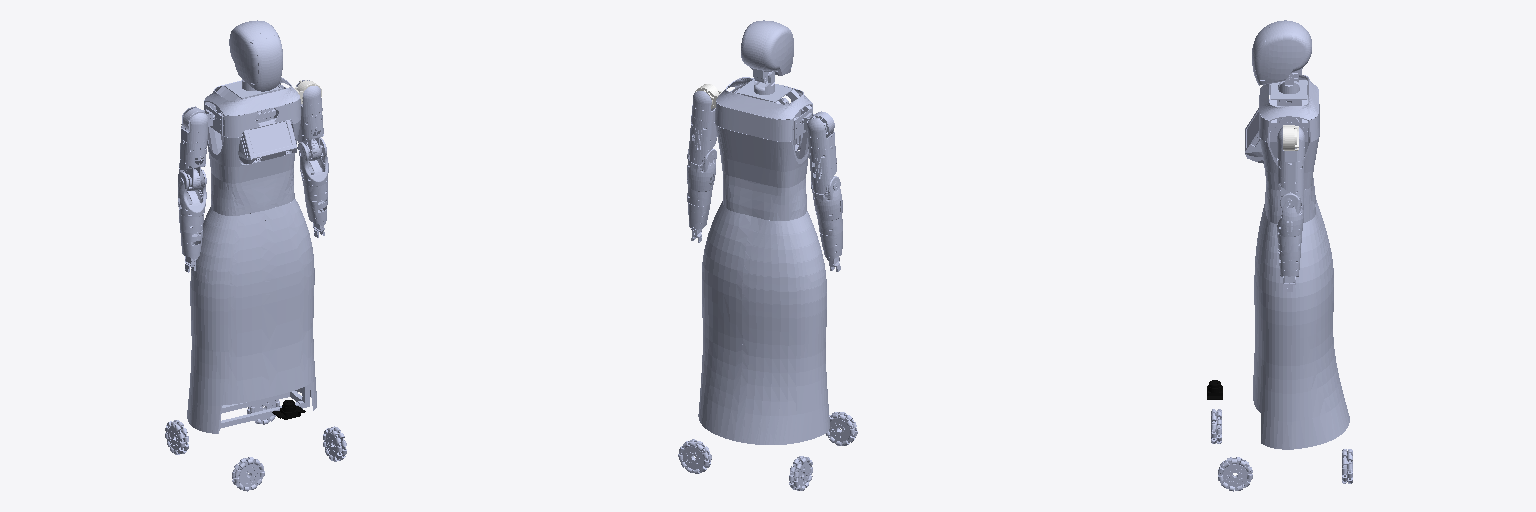
--- Render facts (derived) ---
3 views of the same robot in one strip: view 1: azimuth 30°, elevation 25°; view 2: azimuth 150°, elevation 25°; view 3: azimuth 270°, elevation 25° (orthographic).
Robot: eva — 23 links, 22 joints (14 revolute, 4 continuous, 4 fixed); root link base_footprint; default pose: every joint at zero.
Links seen in each view (by area): view 1: base_link, head, elbow_right, elbow_left, biceptoelbow_right, omniwheelone, biceptoelbow_left, shouldertobicep_right, omniwheeltwo, omniwheelfour, shouldertobicep_left; view 2: base_link, head, elbow_right, elbow_left, biceptoelbow_right, biceptoelbow_left, omniwheelthree, omniwheelone, omniwheelfour, shouldertobicep_right, shouldertobicep_left; view 3: base_link, head, elbow_left, omniwheeltwo, biceptoelbow_left, shouldertobicep_left.
Boxes of the visible links, x1,y1,x2,y2 form: base_link: (187,77,316,433); head: (229,20,282,91); elbow_right: (178,169,206,232); elbow_left: (298,137,328,200); biceptoelbow_right: (179,139,206,190); omniwheelone: (232,457,264,491); biceptoelbow_left: (298,113,323,160); shouldertobicep_right: (181,107,207,155); omniwheeltwo: (323,426,346,461); omniwheelfour: (165,420,188,454); shouldertobicep_left: (296,80,322,125); base_link: (698,77,829,444); head: (741,20,793,82); elbow_right: (811,176,842,235); elbow_left: (687,149,716,206); biceptoelbow_right: (808,144,836,194); biceptoelbow_left: (689,115,716,165); omniwheelthree: (678,439,711,473); omniwheelone: (826,412,857,445); omniwheelfour: (789,456,812,490); shouldertobicep_right: (807,119,834,161); shouldertobicep_left: (692,91,715,133); base_link: (1245,75,1349,449); head: (1252,20,1311,85); elbow_left: (1277,193,1303,252); omniwheeltwo: (1218,457,1252,491); biceptoelbow_left: (1278,159,1303,205); shouldertobicep_left: (1277,127,1304,167).
Size in the robot's own frame: 0.625 by 0.5215 by 1.73 metres.
Meshes: 21 distinct files referenced, 20 mesh visuals loaded (20 binary STL); not drawn: 1 (reference not matched to a file when rendering).

robot.urdf — eva:
<?xml version="1.0" encoding="utf-8"?>
<!-- This URDF was automatically created by SolidWorks to URDF Exporter! Originally created by Stephen Brawner ([email redacted]) 
     Commit Version: 1.6.0-4-g7f85cfe  Build Version: 1.6.7995.38578
     For more information, please see http://wiki.ros.org/sw_urdf_exporter -->
<robot
  name="eva">
  <link name="base_footprint">
    <inertial>
      <origin xyz="0 0 0" rpy="0 0 0" />
      <mass value="0.001" />
      <inertia ixx="0.0001" ixy="0" ixz="0" iyy="0.0001" iyz="0" izz="0.0001" />
    </inertial>
  </link>
  <joint name="base_footprint_joint" type="fixed">
    <origin xyz="0 0 0" rpy="0 0 0" />
    <parent link="base_footprint" />
    <child link="odom" />
  </joint>
  <link
    name="base_link">
    <inertial>
      <origin
        xyz="-0.023935 0.82614 -0.32916"
        rpy="0 0 0" />
      <mass
        value="8.7231" />
      <inertia
        ixx="0.43786"
        ixy="0.0060048"
        ixz="0.0014775"
        iyy="0.1169"
        iyz="-0.01918"
        izz="0.44107" />
    </inertial>
    <visual>
      <origin
        xyz="0 0 0"
        rpy="0 0 0" />
      <geometry>
        <mesh
          filename="package://eva/meshes/base_link.STL" />
      </geometry>
      <material
        name="">
        <color
          rgba="0.79216 0.81961 0.93333 1" />
      </material>
    </visual>
    <collision>
      <origin
        xyz="0 0 0"
        rpy="0 0 0" />
      <geometry>
        <mesh
          filename="package://eva/meshes/base_link.STL" />
      </geometry>
    </collision>
  </link>
  <link name="odom">
    <inertial>
      <origin xyz="0 0 0" rpy="0 0 0"/>
      <mass value="0.001"/>
      <inertia ixx="0.0001" ixy="0" ixz="0" iyy="0.0001" iyz="0" izz="0.0001"/>
    </inertial>
  </link>

  <joint name="odom_joint" type="fixed">
    <origin xyz="0 0 0" rpy="0 0 0"/>
    <parent link="odom"/>
    <child link="base_link"/>
  </joint>
  <link
    name="neckyaw">
    <inertial>
      <origin
        xyz="3.16271666052706E-08 0.026320877492739 6.34242214303526E-10"
        rpy="0 0 0" />
      <mass
        value="0.126175040674598" />
      <inertia
        ixx="8.27555077333756E-05"
        ixy="4.03777936635689E-19"
        ixz="-6.90908142853906E-11"
        iyy="0.000117501706916793"
        iyz="-5.32226318368442E-20"
        izz="0.000117550416671382" />
    </inertial>
    <visual>
      <origin
        xyz="0 0 0"
        rpy="0 0 0" />
      <geometry>
        <mesh
          filename="package://eva/meshes/neckyaw.STL" />
      </geometry>
      <material
        name="">
        <color
          rgba="0.792156862745098 0.819607843137255 0.933333333333333 1" />
      </material>
    </visual>
    <collision>
      <origin
        xyz="0 0 0"
        rpy="0 0 0" />
      <geometry>
        <mesh
          filename="package://eva/meshes/neckyaw.STL" />
      </geometry>
    </collision>
  </link>
  <joint
    name="neck"
    type="revolute">
    <origin
      xyz="0 0.329 1.4601"
      rpy="1.5708 0 0.020051" />
    <parent
      link="base_link" />
    <child
      link="neckyaw" />
    <axis
      xyz="0 1 0" />
    <limit
      lower="-1.57"
      upper="1.57"
      effort="0.3"
      velocity="0.5" />
  </joint>
  <link
    name="head">
    <inertial>
      <origin
        xyz="0.000991055951199262 0.110877142761753 -0.00690969693007598"
        rpy="0 0 0" />
      <mass
        value="2.56826417178078" />
      <inertia
        ixx="0.00967495550802753"
        ixy="9.79860347384167E-05"
        ixz="0.00030219746885624"
        iyy="0.00769698350456901"
        iyz="-0.00044423599956577"
        izz="0.0109246801010029" />
    </inertial>
    <visual>
      <origin
        xyz="0 0 0"
        rpy="0 0 0" />
      <geometry>
        <mesh
          filename="package://eva/meshes/head.STL" />
      </geometry>
      <material
        name="">
        <color
          rgba="0.792156862745098 0.819607843137255 0.933333333333333 1" />
      </material>
    </visual>
    <collision>
      <origin
        xyz="0 0 0"
        rpy="0 0 0" />
      <geometry>
        <mesh
          filename="package://eva/meshes/head.STL" />
      </geometry>
    </collision>
  </link>
  <joint
    name="head_pitch"
    type="revolute">
    <origin
      xyz="0 0.05 0"
      rpy="-3.1077 0 3.1416" />
    <parent
      link="neckyaw" />
    <child
      link="head" />
    <axis
      xyz="1 0 0" />
    <limit
      lower="-0.73"
      upper="0.73"
      effort="0.3"
      velocity="0.5"/>
  </joint>
  <link
    name="drivelink">
    <inertial>
      <origin
        xyz="0.442608414500854 0.38497256826904 0.422874023606937"
        rpy="0 0 0" />
      <mass
        value="10.5110387047355" />
      <inertia
        ixx="0.0913808420198123"
        ixy="-5.36278981288798E-08"
        ixz="-1.93903145120642E-06"
        iyy="0.194286246334757"
        iyz="0.00300227344017714"
        izz="0.123956245421858" />
    </inertial>
    <visual>
      <origin
        xyz="0 0 0"
        rpy="0 0 0" />
      <geometry>
        <mesh
          filename="package://eva/meshes/drivelink.STL" />
      </geometry>
      <material
        name="">
        <color
          rgba="0.792156862745098 0.819607843137255 0.933333333333333 1" />
      </material>
    </visual>
    <collision>
      <origin
        xyz="0 0 0"
        rpy="0 0 0" />
      <geometry>
        <mesh
          filename="package://eva/meshes/drivelink.STL" />
      </geometry>
    </collision>
  </link>
  <joint
    name="chassis"
    type="fixed">
    <origin
      xyz="0.43815 -0.14249 -0.30251"
      rpy="1.5708 0 3.1416" />
    <parent
      link="base_link" />
    <child
      link="drivelink" />
    <axis
      xyz="0 0 0" />
  </joint>
  <link
    name="omniwheelone">
    <inertial>
      <origin
        xyz="-1.51961776495568E-15 3.63598040564739E-15 -0.0189983350650456"
        rpy="0 0 0" />
      <mass
        value="0.204540248590815" />
      <inertia
        ixx="6.51400050027573E-05"
        ixy="-3.89635155736978E-20"
        ixz="-1.30530114545276E-20"
        iyy="6.5140005002757E-05"
        iyz="-4.82617695539781E-21"
        izz="0.000123773510488937" />
    </inertial>
    <visual>
      <origin
        xyz="0 0 0"
        rpy="0 0 0" />
      <geometry>
        <mesh
          filename="package://eva/meshes/omniwheelone.STL" />
      </geometry>
      <material
        name="">
        <color
          rgba="0.792156862745098 0.819607843137255 0.933333333333333 1" />
      </material>
    </visual>
    <collision>
      <origin
        xyz="0 0 0"
        rpy="0 0 0" />
      <geometry>
        <mesh
          filename="package://eva/meshes/omniwheelone.STL" />
      </geometry>
    </collision>
  </link>
  <joint
    name="omnione"
    type="continuous">
    <origin
      xyz="0.60603 0.35151 0.19199"
      rpy="3.1416 0 1.9986" />
    <parent
      link="drivelink" />
    <child
      link="omniwheelone" />
    <axis
      xyz="0 0 1" />
  </joint>
  <link
    name="omniwheeltwo">
    <inertial>
      <origin
        xyz="1.79023462720806E-15 3.02535774210355E-15 0.0190016649349595"
        rpy="0 0 0" />
      <mass
        value="0.204540248590815" />
      <inertia
        ixx="6.51400050027572E-05"
        ixy="-3.30342849429177E-20"
        ixz="-8.63152636897224E-20"
        iyy="6.51400050027571E-05"
        iyz="1.50688845505087E-19"
        izz="0.000123773510488937" />
    </inertial>
    <visual>
      <origin
        xyz="0 0 0"
        rpy="0 0 0" />
      <geometry>
        <mesh
          filename="package://eva/meshes/omniwheeltwo.STL" />
      </geometry>
      <material
        name="">
        <color
          rgba="0.792156862745098 0.819607843137255 0.933333333333333 1" />
      </material>
    </visual>
    <collision>
      <origin
        xyz="0 0 0"
        rpy="0 0 0" />
      <geometry>
        <mesh
          filename="package://eva/meshes/omniwheeltwo.STL" />
      </geometry>
    </collision>
  </link>
  <joint
    name="omnitwo"
    type="continuous">
    <origin
      xyz="0.184651484049627 0.35150697340092 0.277611701761818"
      rpy="1.57079632679492 1.34484068342673 1.57079632679492" />
    <parent
      link="drivelink" />
    <child
      link="omniwheeltwo" />
    <axis
      xyz="0 0 1" />
  </joint>
  <link
    name="omniwheelthree">
    <inertial>
      <origin
        xyz="-6.66133814775094E-16 8.88178419700125E-16 -0.0189983350650453"
        rpy="0 0 0" />
      <mass
        value="0.204540248590815" />
      <inertia
        ixx="6.51400050027575E-05"
        ixy="-4.74338450462408E-20"
        ixz="-8.0155485795962E-21"
        iyy="6.51400050027573E-05"
        iyz="-3.02182594969937E-22"
        izz="0.000123773510488937" />
    </inertial>
    <visual>
      <origin
        xyz="0 0 0"
        rpy="0 0 0" />
      <geometry>
        <mesh
          filename="package://eva/meshes/omniwheelthree.STL" />
      </geometry>
      <material
        name="">
        <color
          rgba="0.792156862745098 0.819607843137255 0.933333333333333 1" />
      </material>
    </visual>
    <collision>
      <origin
        xyz="0 0 0"
        rpy="0 0 0" />
      <geometry>
        <mesh
          filename="package://eva/meshes/omniwheelthree.STL" />
      </geometry>
    </collision>
  </link>
  <joint
    name="omnithree"
    type="continuous">
    <origin
      xyz="0.270276484049601 0.35150697340092 0.660986701761786"
      rpy="3.14159265358979 0 1.72464128224183" />
    <parent
      link="drivelink" />
    <child
      link="omniwheelthree" />
    <axis
      xyz="0 0 1" />
  </joint>
  <link
    name="omniwheelfour">
    <inertial>
      <origin
        xyz="-2.99760216648792E-15 8.71525074330748E-15 -0.0189983350650284"
        rpy="0 0 0" />
      <mass
        value="0.204540248590815" />
      <inertia
        ixx="6.51400050027574E-05"
        ixy="-5.25160427297666E-20"
        ixz="-1.66126829160778E-20"
        iyy="6.51400050027572E-05"
        iyz="3.57292252765053E-20"
        izz="0.000123773510488937" />
    </inertial>
    <visual>
      <origin
        xyz="0 0 0"
        rpy="0 0 0" />
      <geometry>
        <mesh
          filename="package://eva/meshes/omniwheelfour.STL" />
      </geometry>
      <material
        name="">
        <color
          rgba="0.792156862745098 0.819607843137255 0.933333333333333 1" />
      </material>
    </visual>
    <collision>
      <origin
        xyz="0 0 0"
        rpy="0 0 0" />
      <geometry>
        <mesh
          filename="package://eva/meshes/omniwheelfour.STL" />
      </geometry>
    </collision>
  </link>
  <joint
    name="omnifour"
    type="continuous">
    <origin
      xyz="0.653651484049575 0.351506973400919 0.613361701761816"
      rpy="1.57079632679487 -1.20303452089833 -1.57079632679487" />
    <parent
      link="drivelink" />
    <child
      link="omniwheelfour" />
    <axis
      xyz="0 0 1" />
  </joint>
  <link
    name="lidar">
    <inertial>
      <origin
        xyz="8.67191303490234E-08 -4.16025950141646E-05 -0.00869262401284093"
        rpy="0 0 0" />
      <mass
        value="0.0456707581860486" />
      <inertia
        ixx="1.43875325113362E-05"
        ixy="2.88069673475584E-11"
        ixz="2.07587124017155E-11"
        iyy="4.00681951932874E-05"
        iyz="8.08830974764848E-10"
        izz="4.95648054861963E-05" />
    </inertial>
    <visual>
      <origin
        xyz="0 0 0"
        rpy="0 0 0" />
      <geometry>
        <mesh
          filename="package://eva/meshes/lidar.STL" />
      </geometry>
      <material
        name="">
        <color
          rgba="0.0823529411764706 0.0823529411764706 0.0823529411764706 1" />
      </material>
    </visual>
    <collision>
      <origin
        xyz="0 0 0"
        rpy="0 0 0" />
      <geometry>
        <mesh
          filename="package://eva/meshes/lidar.STL" />
      </geometry>
    </collision>
  </link>
  <joint
    name="rplidar"
    type="fixed">
    <origin
      xyz="0.43815 0.55501 0.20549"
      rpy="-1.5708 0 3.1416" />
    <parent
      link="drivelink" />
    <child
      link="lidar" />
    <axis
      xyz="0 0 0" />
  </joint>
  <link
    name="bodytoshoulder_right">
    <inertial>
      <origin
        xyz="0.00263342771648528 -0.000381904326435034 -0.101791329772656"
        rpy="0 0 0" />
      <mass
        value="0.248502139688113" />
      <inertia
        ixx="0.000283023415082852"
        ixy="-1.79166914273708E-06"
        ixz="-1.15794628986197E-06"
        iyy="0.000194989361172429"
        iyz="-4.93506033054954E-06"
        izz="0.000175355523683134" />
    </inertial>
    <visual>
      <origin
        xyz="0 0 0"
        rpy="0 0 0" />
      <geometry>
        <mesh
          filename="package://eva/meshes/bodytoshoulder_right.STL" />
      </geometry>
      <material
        name="">
        <color
          rgba="0.792156862745098 0.819607843137255 0.933333333333333 1" />
      </material>
    </visual>
    <collision>
      <origin
        xyz="0 0 0"
        rpy="0 0 0" />
      <geometry>
        <mesh
          filename="package://eva/meshes/bodytoshoulder_right.STL" />
      </geometry>
    </collision>
  </link>
  <joint
    name="shoulder_pitch_right"
    type="revolute">
    <origin
      xyz="-0.128 0.329 1.3784"
      rpy="1.5708 0 1.5708" />
    <parent
      link="base_link" />
    <child
      link="bodytoshoulder_right" />
    <axis
      xyz="0 0 1" />
    <limit
      lower="-2.35619"
      upper="2.35619"
      effort="9"
      velocity="0.5" />
  </joint>
  <link
    name="shouldertobicep_right">
    <inertial>
      <origin
        xyz="2.43827998452906E-06 -0.0712361677693647 0.00629386677459493"
        rpy="0 0 0" />
      <mass
        value="0.311132620148244" />
      <inertia
        ixx="0.000217096332176796"
        ixy="9.5632745208136E-09"
        ixz="4.19621845744866E-09"
        iyy="0.000233724338410069"
        iyz="2.24442552162171E-07"
        izz="0.000282948473150636" />
    </inertial>
    <visual>
      <origin
        xyz="0 0 0"
        rpy="0 0 0" />
      <geometry>
        <mesh
          filename="package://eva/meshes/shouldertobicep_right.STL" />
      </geometry>
      <material
        name="">
        <color
          rgba="0.792156862745098 0.819607843137255 0.933333333333333 1" />
      </material>
    </visual>
    <collision>
      <origin
        xyz="0 0 0"
        rpy="0 0 0" />
      <geometry>
        <mesh
          filename="package://eva/meshes/shouldertobicep_right.STL" />
      </geometry>
    </collision>
  </link>
  <joint
    name="shoulder_roll_right"
    type="revolute">
    <origin
      xyz="0 0 -0.109"
      rpy="1.5708 1.5006 1.5402" />
    <parent
      link="bodytoshoulder_right" />
    <child
      link="shouldertobicep_right" />
    <axis
      xyz="0 0 1" />
    <limit
      lower="0"
      upper="3.14"
      effort="9"
      velocity="0.5" />
  </joint>
  <link
    name="biceptoelbow_right">
    <inertial>
      <origin
        xyz="0.00226170633570522 -0.121150802743996 0.00217982598756478"
        rpy="0 0 0" />
      <mass
        value="0.322166504756656" />
      <inertia
        ixx="0.000499509848015228"
        ixy="6.37128986397841E-07"
        ixz="2.12146032984303E-07"
        iyy="0.000225417153482144"
        iyz="4.42895441259609E-05"
        izz="0.000351114695137481" />
    </inertial>
    <visual>
      <origin
        xyz="0 0 0"
        rpy="0 0 0" />
      <geometry>
        <mesh
          filename="package://eva/meshes/biceptoelbow_right.STL" />
      </geometry>
      <material
        name="">
        <color
          rgba="0.792156862745098 0.819607843137255 0.933333333333333 1" />
      </material>
    </visual>
    <collision>
      <origin
        xyz="0 0 0"
        rpy="0 0 0" />
      <geometry>
        <mesh
          filename="package://eva/meshes/biceptoelbow_right.STL" />
      </geometry>
    </collision>
  </link>
  <joint
    name="bicep_yaw_right"
    type="revolute">
    <origin
      xyz="0 -0.067989 0.00649"
      rpy="0 -0.028819 0" />
    <parent
      link="shouldertobicep_right" />
    <child
      link="biceptoelbow_right" />
    <axis
      xyz="0 1 0" />
    <limit
      lower="-3.14"
      upper="3.14"
      effort="9"
      velocity="0.5" />
  </joint>
  <link
    name="elbow_right">
    <inertial>
      <origin
        xyz="-0.000942489448175654 -0.0981773354053843 -0.00183959694676156"
        rpy="0 0 0" />
      <mass
        value="0.619505254393955" />
      <inertia
        ixx="0.00195424802328122"
        ixy="3.11768869786834E-06"
        ixz="3.87441149321461E-08"
        iyy="0.000406805948188103"
        iyz="-6.62492714371056E-05"
        izz="0.00178400103446791" />
    </inertial>
    <visual>
      <origin
        xyz="0 0 0"
        rpy="0 0 0" />
      <geometry>
        <mesh
          filename="package://eva/meshes/elbow_right.STL" />
      </geometry>
      <material
        name="">
        <color
          rgba="0.792156862745098 0.819607843137255 0.933333333333333 1" />
      </material>
    </visual>
    <collision>
      <origin
        xyz="0 0 0"
        rpy="0 0 0" />
      <geometry>
        <mesh
          filename="package://eva/meshes/elbow_right.STL" />
      </geometry>
    </collision>
  </link>
  <joint
    name="right_elbow"
    type="revolute">
    <origin
      xyz="0 -0.16601 0"
      rpy="0.042742 0 0" />
    <parent
      link="biceptoelbow_right" />
    <child
      link="elbow_right" />
    <axis
      xyz="1 0 0" />
    <limit
      lower="0"
      upper="2.44"
      effort="3"
      velocity="0.5" />
  </joint>
  <link
    name="forearm_right">
    <inertial>
      <origin
        xyz="0.000908834234954359 -0.0616724923652938 -0.00061476161807944"
        rpy="0 0 0" />
      <mass
        value="0.147692010338907" />
      <inertia
        ixx="0.000114169740597726"
        ixy="8.06746852541554E-08"
        ixz="-8.46787367963132E-08"
        iyy="8.57687336842534E-05"
        iyz="1.38668274392298E-06"
        izz="0.000161330695875686" />
    </inertial>
    <visual>
      <origin
        xyz="0 0 0"
        rpy="0 0 0" />
      <geometry>
        <mesh
          filename="package://eva/meshes/forearm_right.STL" />
      </geometry>
      <material
        name="">
        <color
          rgba="0.792156862745098 0.819607843137255 0.933333333333333 1" />
      </material>
    </visual>
    <collision>
      <origin
        xyz="0 0 0"
        rpy="0 0 0" />
      <geometry>
        <mesh
          filename="package://eva/meshes/forearm_right.STL" />
      </geometry>
    </collision>
  </link>
  <joint
    name="rightforearm"
    type="revolute">
    <origin
      xyz="0.0007775 -0.16917 -0.004924"
      rpy="-3.1416 -0.069099 -3.1416" />
    <parent
      link="elbow_right" />
    <child
      link="forearm_right" />
    <axis
      xyz="0 1 0" />
    <limit
      lower="-1.57"
      upper="1.57"
      effort="9"
      velocity="0.5" />
  </joint>
  <link
    name="wrist_right">
    <inertial>
      <origin
        xyz="-0.0131091201964877 -0.0910923584421162 -0.00215606564071213"
        rpy="0 0 0" />
      <mass
        value="0.198690606569326" />
      <inertia
        ixx="0.000115889926412523"
        ixy="-5.06731410346798E-06"
        ixz="1.56757136729894E-08"
        iyy="6.84989411093352E-05"
        iyz="-4.74295817219009E-06"
        izz="5.82560702668178E-05" />
    </inertial>
    <visual>
      <origin
        xyz="0 0 0"
        rpy="0 0 0" />
      <geometry>
        <mesh
          filename="package://eva/meshes/wrist_right.STL" />
      </geometry>
      <material
        name="">
        <color
          rgba="0.792156862745098 0.819607843137255 0.933333333333333 1" />
      </material>
    </visual>
    <collision>
      <origin
        xyz="0 0 0"
        rpy="0 0 0" />
      <geometry>
        <mesh
          filename="package://eva/meshes/wrist_right.STL" />
      </geometry>
    </collision>
  </link>
  <joint
    name="rightwrist"
    type="revolute">
    <origin
      xyz="0.00054195 -0.11687 0"
      rpy="3.1416 0 3.0543" />
    <parent
      link="forearm_right" />
    <child
      link="wrist_right" />
    <axis
      xyz="0 0 1" />
    <limit
      lower="-1.04"
      upper="1.04"
      effort="0.3"
      velocity="0.5" />
  </joint>
  <link
    name="bodytoshoulder_left">
    <inertial>
      <origin
        xyz="0 0 0"
        rpy="0 0 0" />
      <mass
        value="0" />
      <inertia
        ixx="0"
        ixy="0"
        ixz="0"
        iyy="0"
        iyz="0"
        izz="0" />
    </inertial>
    <visual>
      <origin
        xyz="0 0 0"
        rpy="0 0 0" />
      <geometry>
        <mesh
          filename="package://eva/meshes/bodytoshoulder_left.STL" />
      </geometry>
      <material
        name="">
        <color
          rgba="1 1 1 1" />
      </material>
    </visual>
    <collision>
      <origin
        xyz="0 0 0"
        rpy="0 0 0" />
      <geometry>
        <mesh
          filename="package://eva/meshes/bodytoshoulder_left.STL" />
      </geometry>
    </collision>
  </link>
  <joint
    name="shoulder_pitch_left"
    type="revolute">
    <origin
      xyz="0.128 0.329 1.3784"
      rpy="1.5721 0 3.1416" />
    <parent
      link="base_link" />
    <child
      link="bodytoshoulder_left" />
    <axis
      xyz="1 0 0" />
    <limit
      lower="-2.35619"
      upper="2.35619"
      effort="9"
      velocity="0.5" />
  </joint>
  <link
    name="shouldertobicep_left">
    <inertial>
      <origin
        xyz="2.42894895772783E-05 -0.0712019111454516 0.00623568086093679"
        rpy="0 0 0" />
      <mass
        value="0.311661029575735" />
      <inertia
        ixx="0.000217110943776403"
        ixy="-9.64191457713708E-09"
        ixz="-4.30797153328492E-09"
        iyy="0.000233732929771828"
        iyz="2.24558447499004E-07"
        izz="0.000282971498045027" />
    </inertial>
    <visual>
      <origin
        xyz="0 0 0"
        rpy="0 0 0" />
      <geometry>
        <mesh
          filename="package://eva/meshes/shouldertobicep_left.STL" />
      </geometry>
      <material
        name="">
        <color
          rgba="0.792156862745098 0.819607843137255 0.933333333333333 1" />
      </material>
    </visual>
    <collision>
      <origin
        xyz="0 0 0"
        rpy="0 0 0" />
      <geometry>
        <mesh
          filename="package://eva/meshes/shouldertobicep_left.STL" />
      </geometry>
    </collision>
  </link>
  <joint
    name="shoulder_roll_left"
    type="revolute">
    <origin
      xyz="-0.109 0 0"
      rpy="0 0 -0.078105" />
    <parent
      link="bodytoshoulder_left" />
    <child
      link="shouldertobicep_left" />
    <axis
      xyz="0 0 1" />
    <limit
      lower="3.14"
      upper="-3.14"
      effort="9"
      velocity="0.5" />
  </joint>
  <link
    name="biceptoelbow_left">
    <inertial>
      <origin
        xyz="-0.00222793540274374 -0.113765890557727 0.00222893321975454"
        rpy="0 0 0" />
      <mass
        value="0.322695004938074" />
      <inertia
        ixx="0.000499544547889265"
        ixy="-6.4056274284169E-07"
        ixz="-2.06051569808937E-07"
        iyy="0.000225432742859281"
        iyz="4.42929232554066E-05"
        izz="0.000351126081349019" />
    </inertial>
    <visual>
      <origin
        xyz="0 0 0"
        rpy="0 0 0" />
      <geometry>
        <mesh
          filename="package://eva/meshes/biceptoelbow_left.STL" />
      </geometry>
      <material
        name="">
        <color
          rgba="0.792156862745098 0.819607843137255 0.933333333333333 1" />
      </material>
    </visual>
    <collision>
      <origin
        xyz="0 0 0"
        rpy="0 0 0" />
      <geometry>
        <mesh
          filename="package://eva/meshes/biceptoelbow_left.STL" />
      </geometry>
    </collision>
  </link>
  <joint
    name="bicep_yaw_left"
    type="revolute">
    <origin
      xyz="0 -0.07534 0.00649"
      rpy="0 -0.073358 0" />
    <parent
      link="shouldertobicep_left" />
    <child
      link="biceptoelbow_left" />
    <axis
      xyz="0 1 0" />
    <limit
      lower="-3.14"
      upper="3.14"
      effort="9"
      velocity="0.5" />
  </joint>
  <link
    name="elbow_left">
    <inertial>
      <origin
        xyz="0.000934861640795537 -0.0981762998130045 -0.00184018945864467"
        rpy="0 0 0" />
      <mass
        value="0.619491777009908" />
      <inertia
        ixx="0.00195401589629342"
        ixy="-3.12692803676324E-06"
        ixz="-4.84702136384628E-08"
        iyy="0.000406780941842335"
        iyz="-6.62878466078583E-05"
        izz="0.00178376777434231" />
    </inertial>
    <visual>
      <origin
        xyz="0 0 0"
        rpy="0 0 0" />
      <geometry>
        <mesh
          filename="package://eva/meshes/elbow_left.STL" />
      </geometry>
      <material
        name="">
        <color
          rgba="0.792156862745098 0.819607843137255 0.933333333333333 1" />
      </material>
    </visual>
    <collision>
      <origin
        xyz="0 0 0"
        rpy="0 0 0" />
      <geometry>
        <mesh
          filename="package://eva/meshes/elbow_left.STL" />
      </geometry>
    </collision>
  </link>
  <joint
    name="left_elbow"
    type="revolute">
    <origin
      xyz="0 -0.15866 0"
      rpy="-0.0024919 0 0" />
    <parent
      link="biceptoelbow_left" />
    <child
      link="elbow_left" />
    <axis
      xyz="1 0 0" />
    <limit
      lower="0"
      upper="2.44"
      effort="3"
      velocity="0.5" />
  </joint>
  <link
    name="forearm_left">
    <inertial>
      <origin
        xyz="-0.000912539179160343 -0.0555357197025999 -0.000630712082974882"
        rpy="0 0 0" />
      <mass
        value="0.147740552985669" />
      <inertia
        ixx="0.000114155438032885"
        ixy="-8.36038796193202E-08"
        ixz="7.95620243891857E-08"
        iyy="8.57658027541546E-05"
        iyz="1.38925271095715E-06"
        izz="0.00016129985431266" />
    </inertial>
    <visual>
      <origin
        xyz="0 0 0"
        rpy="0 0 0" />
      <geometry>
        <mesh
          filename="package://eva/meshes/forearm_left.STL" />
      </geometry>
      <material
        name="">
        <color
          rgba="0.792156862745098 0.819607843137255 0.933333333333333 1" />
      </material>
    </visual>
    <collision>
      <origin
        xyz="0 0 0"
        rpy="0 0 0" />
      <geometry>
        <mesh
          filename="package://eva/meshes/forearm_left.STL" />
      </geometry>
    </collision>
  </link>
  <joint
    name="leftforearm"
    type="revolute">
    <origin
      xyz="-0.0007775 -0.17529 -0.004924"
      rpy="3.1416 -0.14374 -3.1416" />
    <parent
      link="elbow_left" />
    <child
      link="forearm_left" />
    <axis
      xyz="0 1 0" />
    <limit
      lower="-1.57"
      upper="1.57"
      effort="9"
      velocity="0.5" />
  </joint>
  <link
    name="wrist_left">
    <inertial>
      <origin
        xyz="0.00254475643397845 -0.0915619172101602 0.00406669283447403"
        rpy="0 0 0" />
      <mass
        value="0.19393770838844" />
      <inertia
        ixx="0.000115981448628616"
        ixy="3.22329730068676E-06"
        ixz="-8.20657572390409E-07"
        iyy="6.8044539559402E-05"
        iyz="4.58500817278768E-06"
        izz="5.80296015066438E-05" />
    </inertial>
    <visual>
      <origin
        xyz="0 0 0"
        rpy="0 0 0" />
      <geometry>
        <mesh
          filename="package://eva/meshes/wrist_left.STL" />
      </geometry>
      <material
        name="">
        <color
          rgba="0.792156862745098 0.819607843137255 0.933333333333333 1" />
      </material>
    </visual>
    <collision>
      <origin
        xyz="0 0 0"
        rpy="0 0 0" />
      <geometry>
        <mesh
          filename="package://eva/meshes/wrist_left.STL" />
      </geometry>
    </collision>
  </link>
  <joint
    name="leftwrist"
    type="revolute">
    <origin
      xyz="-0.00054195 -0.11075 0"
      rpy="0 0 -0.1005" />
    <parent
      link="forearm_left" />
    <child
      link="wrist_left" />
    <axis
      xyz="0 0 1" />
    <limit
      lower="-1.04"
      upper="1.04"
      effort="0.3"
      velocity="0.5" />
  </joint>
</robot>
